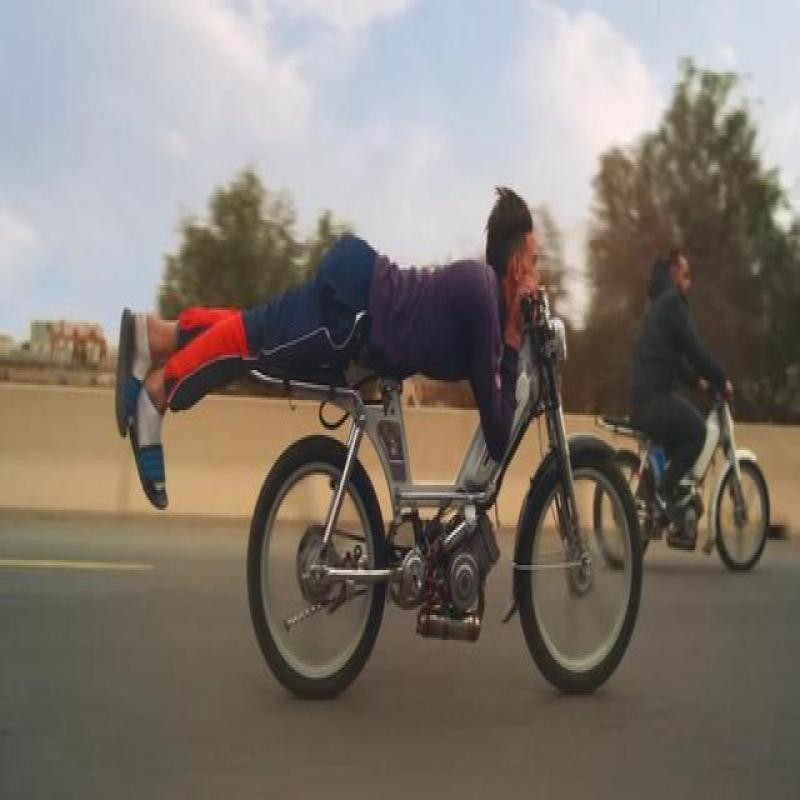nohelmet: (477, 198, 543, 324), (632, 246, 696, 316)
